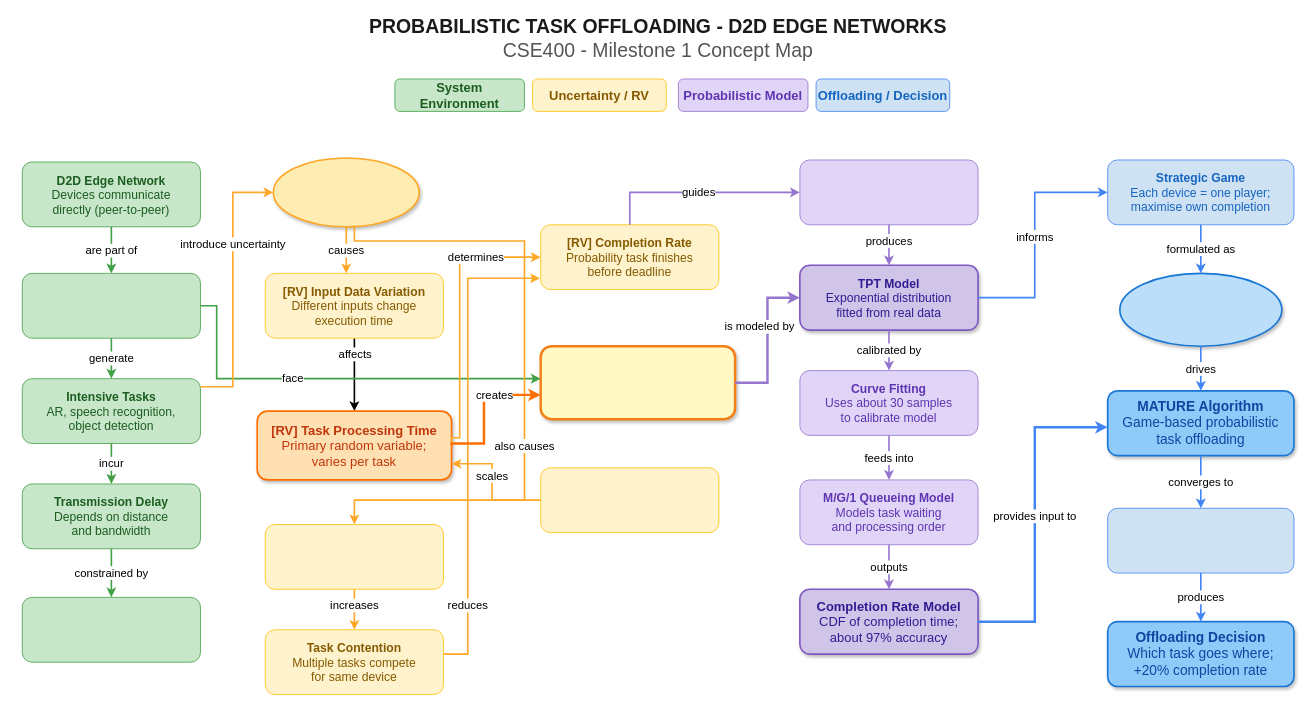
Some shapes in this 1315 by 709 pixel diagram are drawn without their labels. The shapes that lost their labels are listed below. From the top down, each one's centre as x and y in pixels, then its label:
the point at 346,193: Sources of Uncertainty
the point at 888,192: PDF Estimation Fit probability distribution to measured TPT data
the point at 110,305: Mobile Devices (MDs) Generate tasks; limited compute
the point at 1201,310: Potential Game Guarantees the game reaches convergence
the point at 638,383: Core Problem Task processing time is uncertain in D2D networks
the point at 629,500: Device Capability CPU speed varies across devices
the point at 353,556: [RV] Task Arrival Time Follows Poisson process; stochastic arrivals
the point at 1200,540: Nash Equilibrium No device can improve alone — stable state
the point at 110,629: Deadline Constraint Each task has a max allowed time
